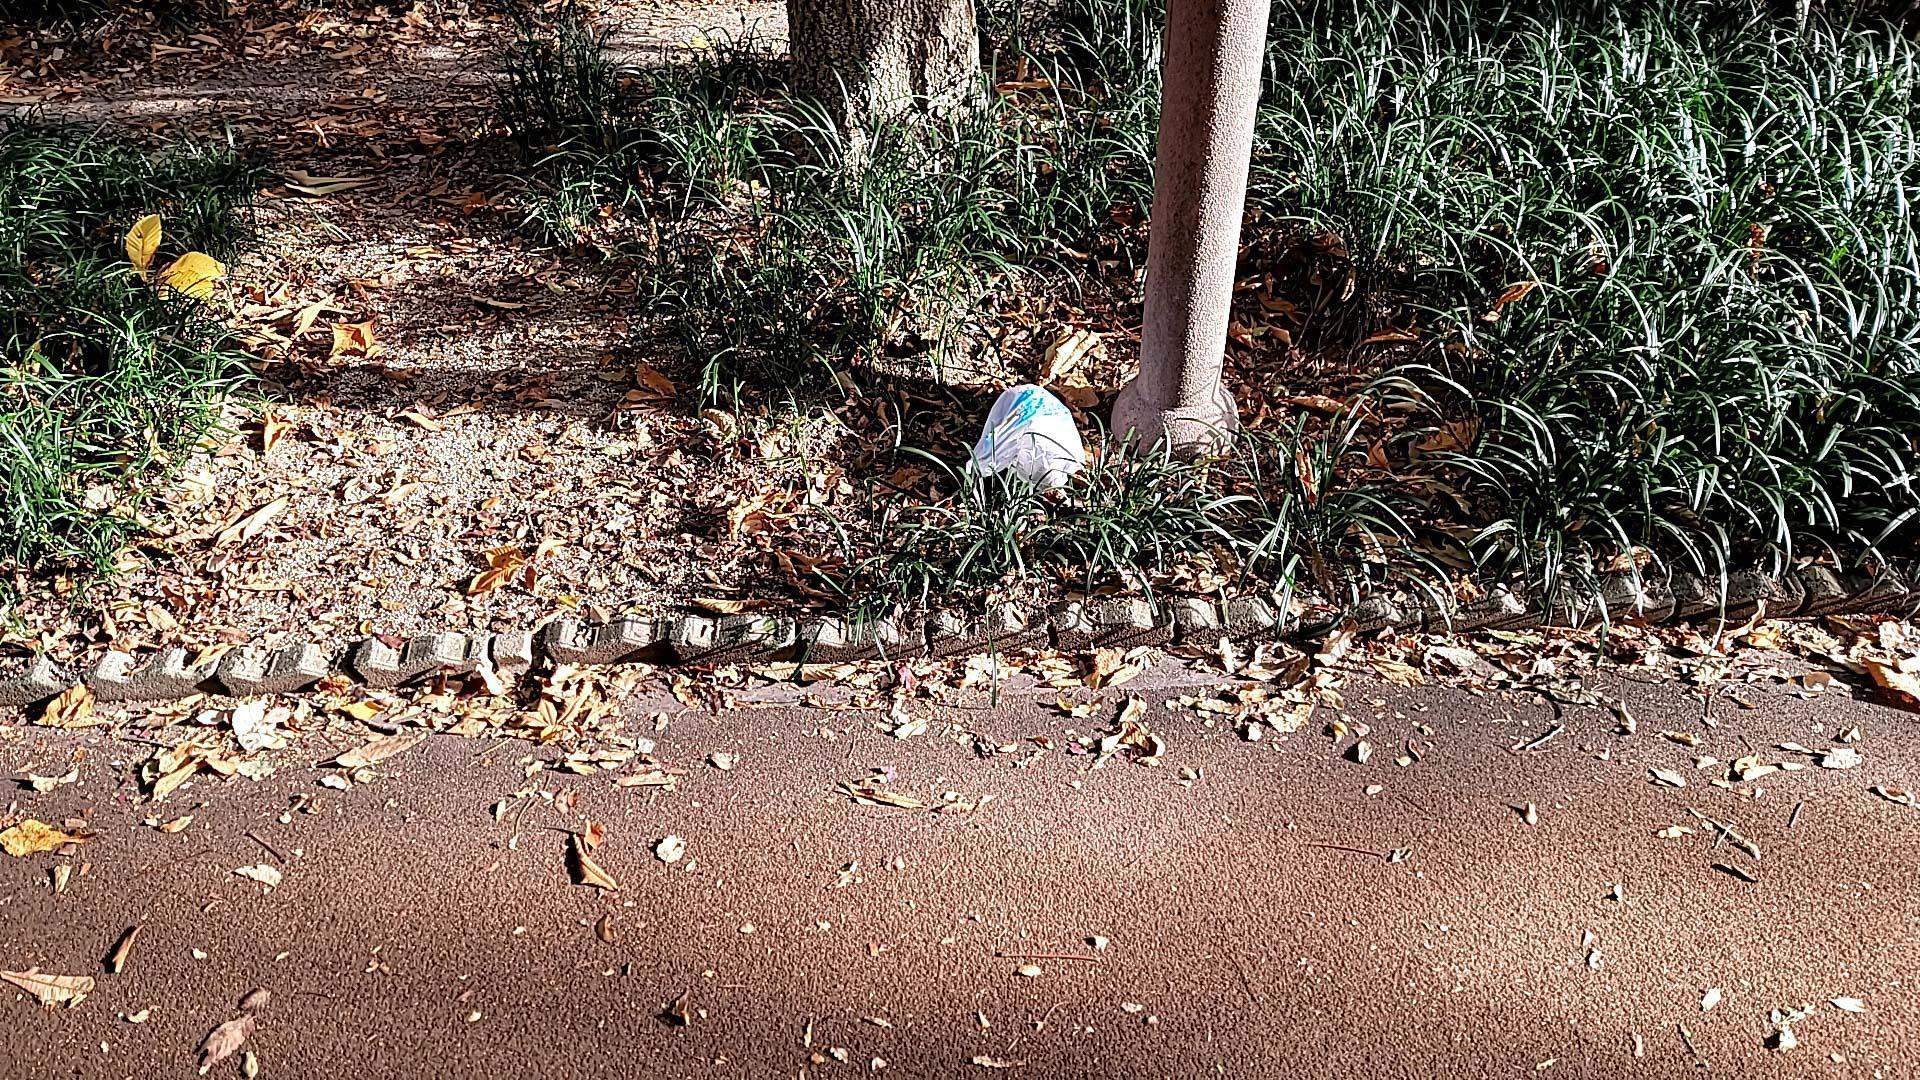white_bag: (960, 377, 1098, 509)
